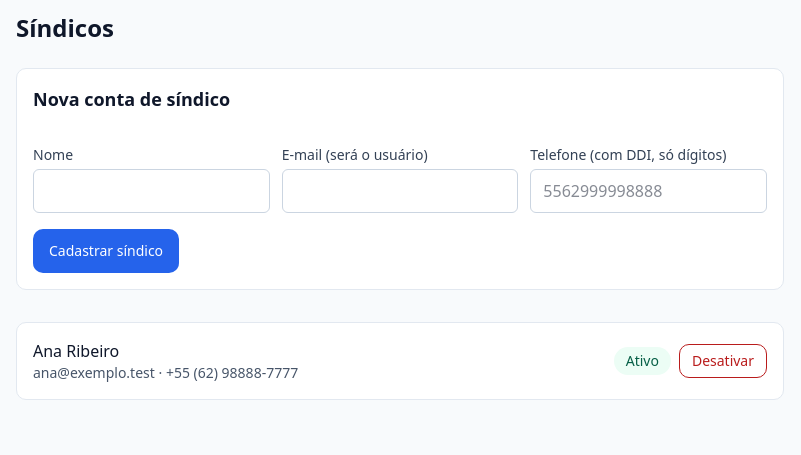
Test: SyndicsPage › mostra EMAIL_TAKEN sem quebrar o formulário
Step 1. Type "Bruno Alves" into the field labelled "Nome" → coordinates (151, 191), box [33,169,270,213]
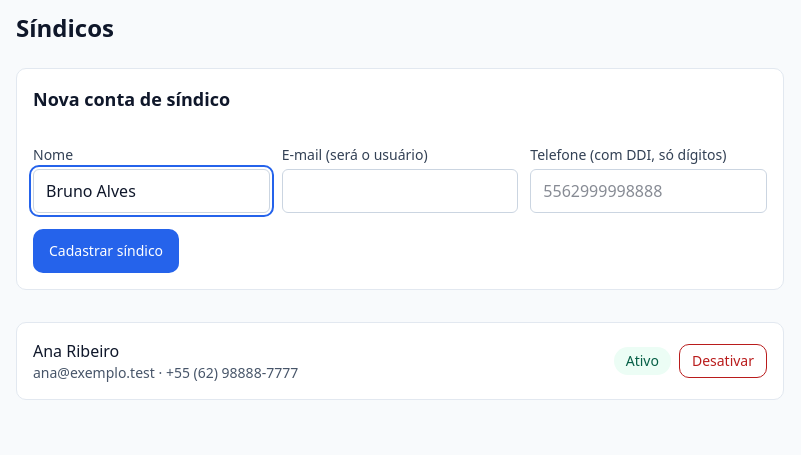
Step 2. Type "ana@exemplo.test" into the field labelled "E-mail (será o usuário)" → coordinates (400, 191), box [282,169,518,213]
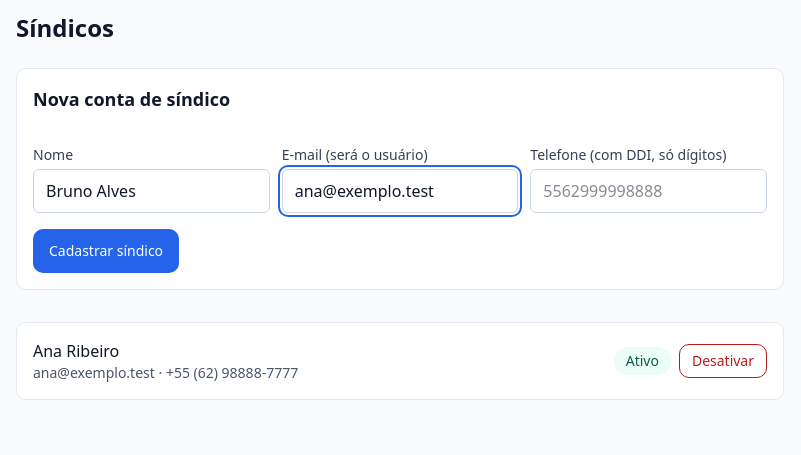
Step 3. Type "5562977776666" into the field labelled "Telefone (com DDI, só dígitos)" → coordinates (649, 191), box [530,169,767,213]
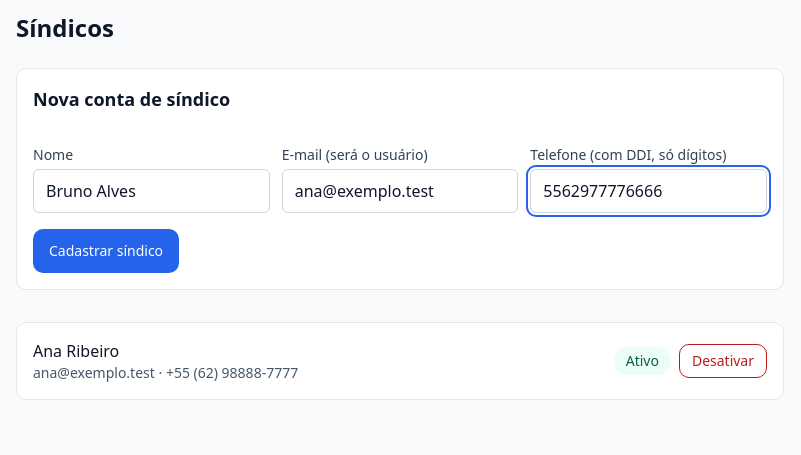
Step 4. Click the button "Cadastrar síndico" → coordinates (106, 251), box [33,229,179,273]
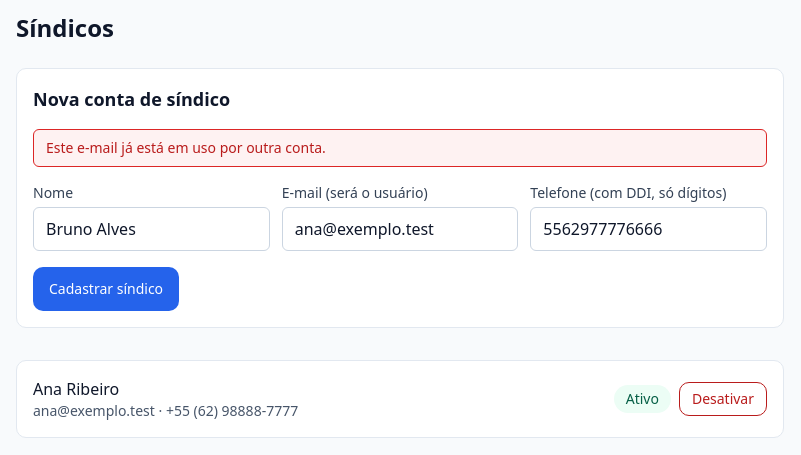
Now the text "Este e-mail já está em uso por outra conta." is shown, box [33,129,767,167]
